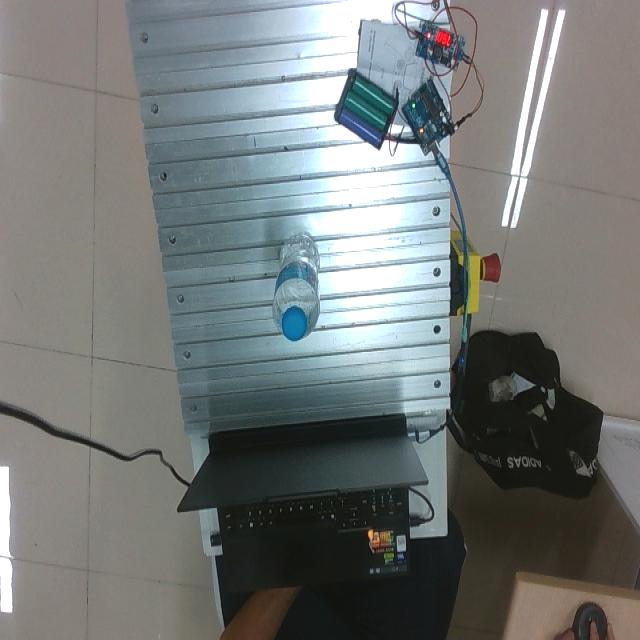lavie: (272, 235, 321, 342)
